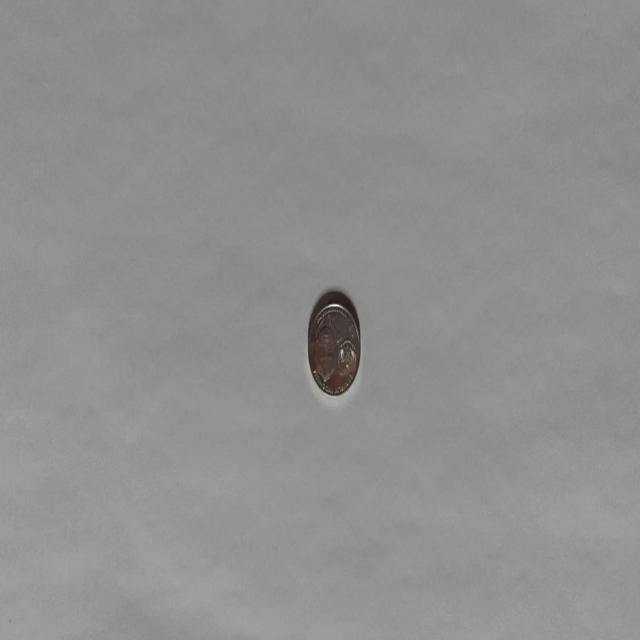dua ratus rupiah: (306, 295, 362, 397)
